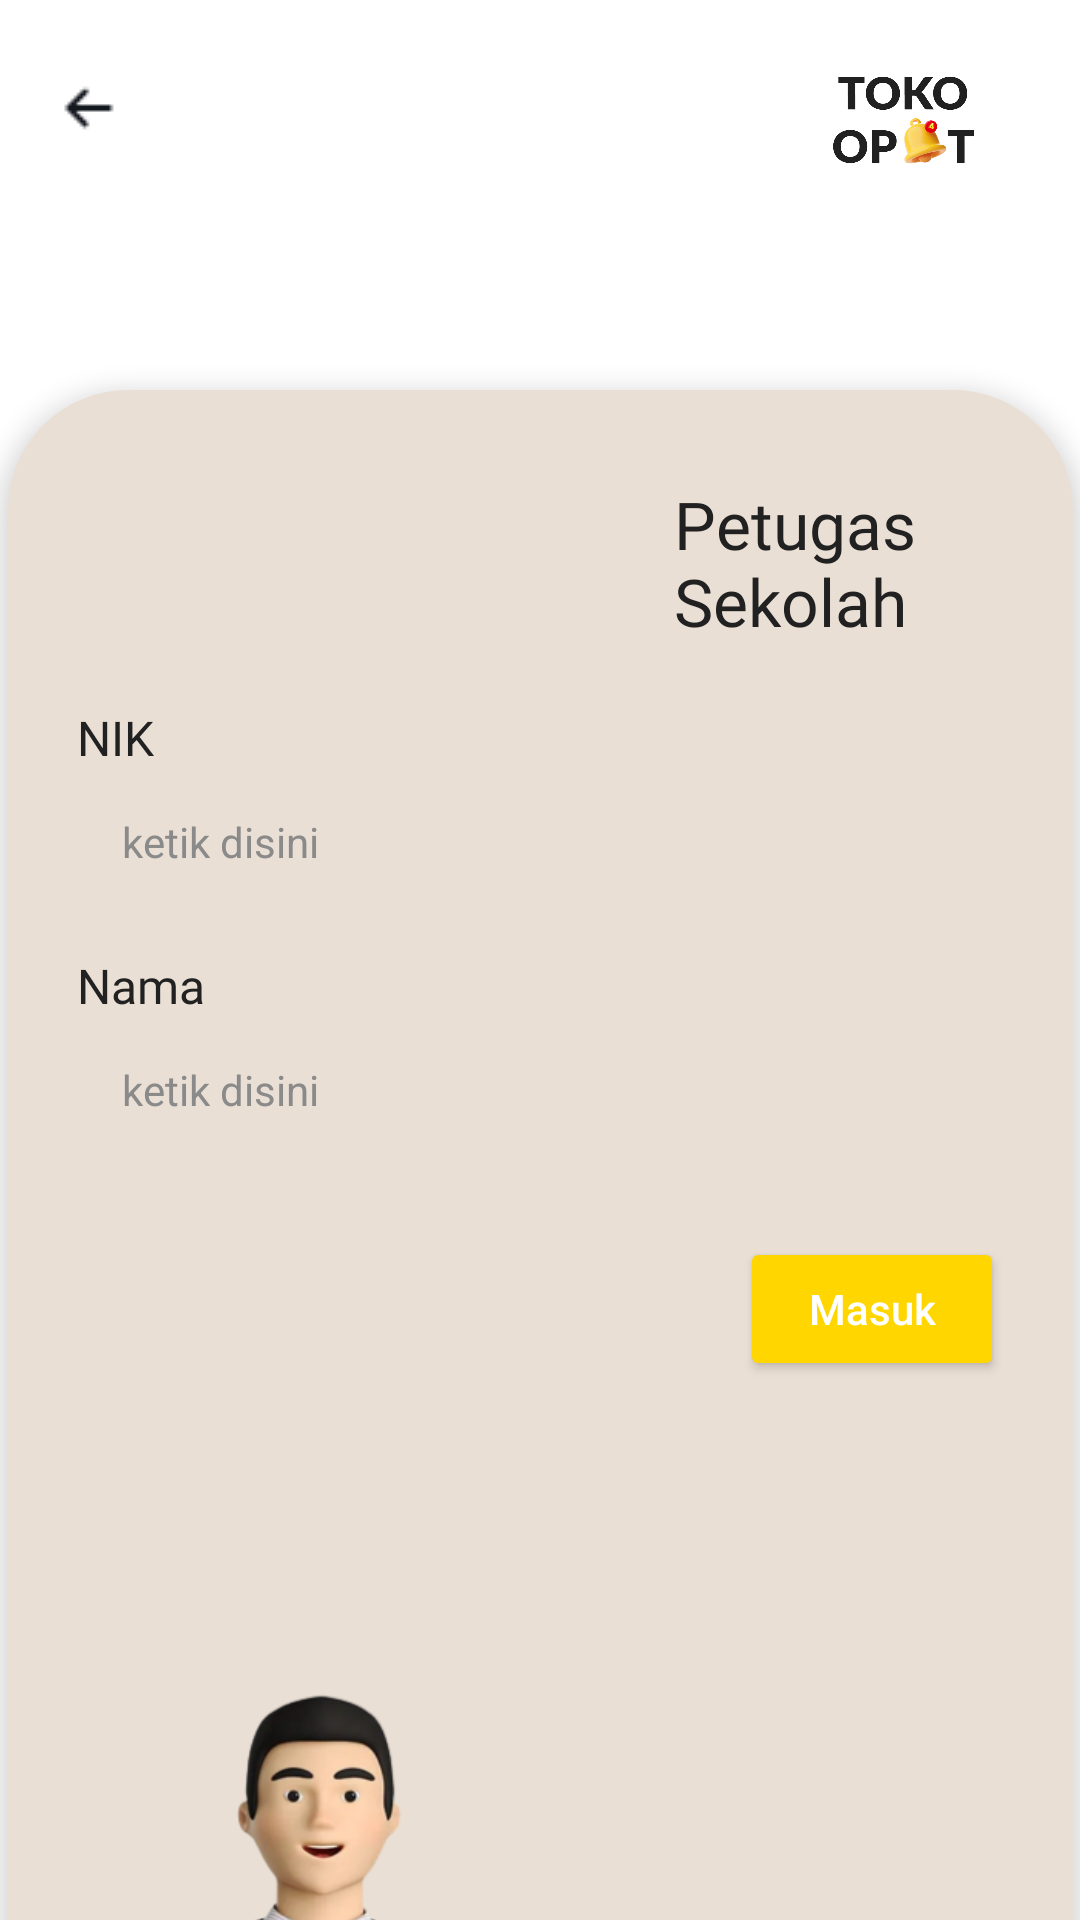

Where to tap for icons on this 1080w x 1920h app screen, as [x,y]:
back: [89,108]
